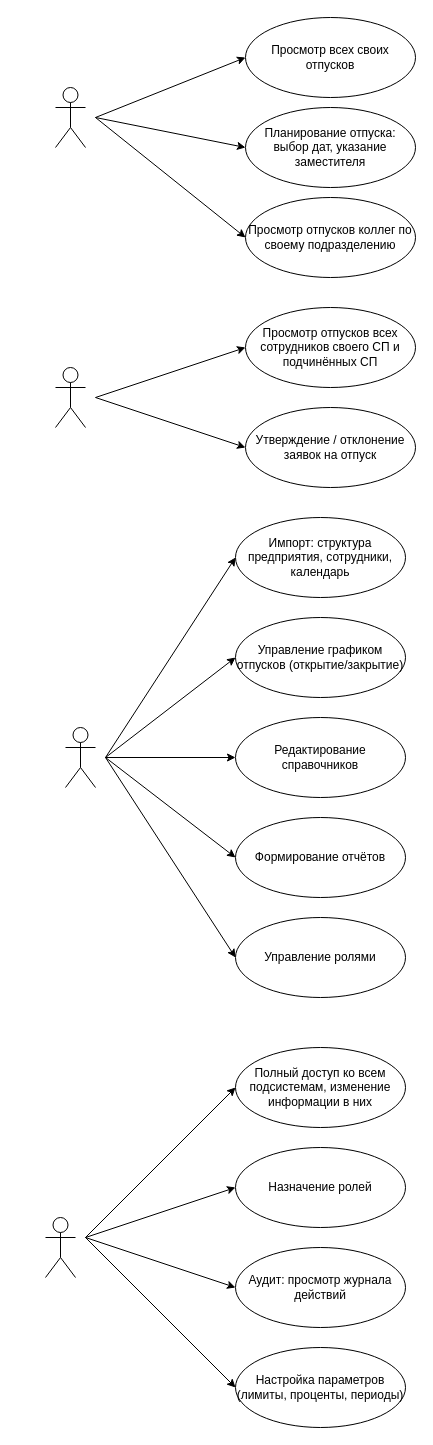
This 433x1445 diagram has some shape labels left out. The centre of each missing label's shape, as x and y in pixels:
"Администратор" goes at pixel 60 1247.
"Руководитель" goes at pixel 70 397.
"Сотрудник" goes at pixel 70 117.
"Сотрудник отдела кадров" goes at pixel 80 757.
